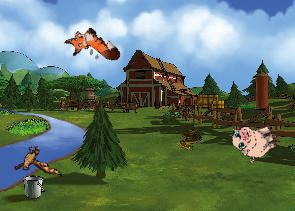eagle: (10, 141, 62, 184)
fox: (61, 18, 123, 78)
pig: (228, 115, 281, 165)
